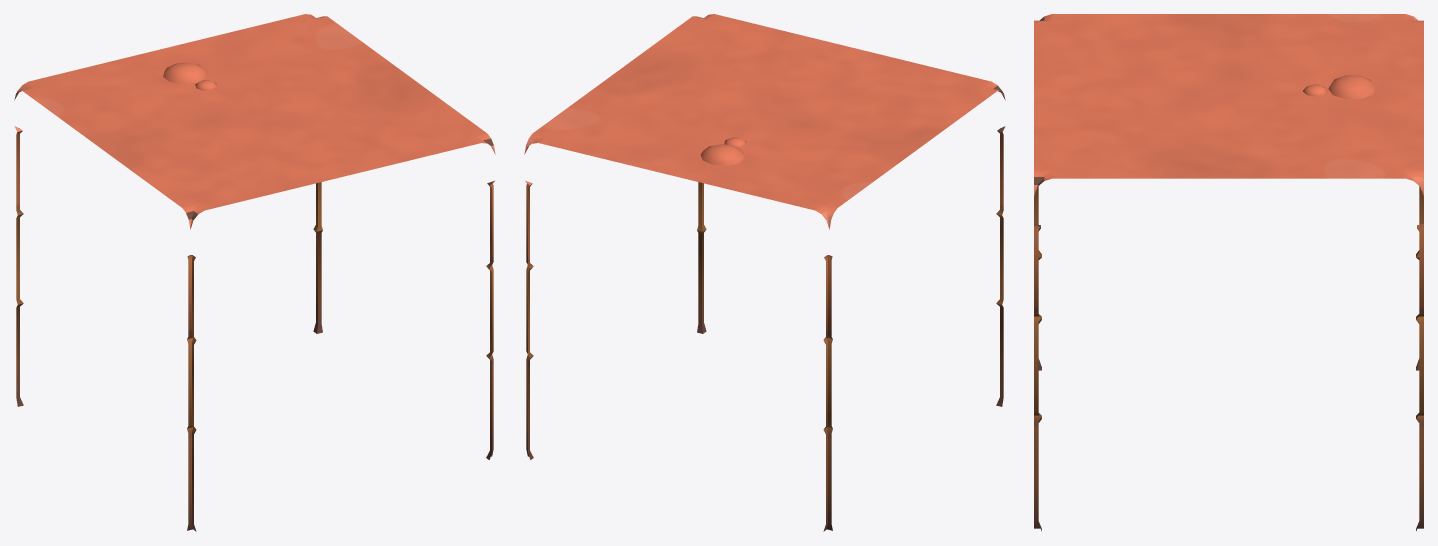
Rendered from wall_cross.glb.
3 views of the same model, side by side, from view 1: azimuth 30°, elevation 25°; view 2: azimuth 150°, elevation 25°; view 3: azimuth 270°, elevation 25° (orthographic). The views are drawn at different scales.
Visible parts, largest first — view 1: wall_cross; view 2: wall_cross; view 3: wall_cross.
Boxes of the visible parts, bbox=[...] form: wall_cross: bbox=[14, 14, 495, 531]; wall_cross: bbox=[524, 14, 1005, 531]; wall_cross: bbox=[1034, 14, 1423, 531].
Bounding box in the file's own units: 1 × 1.03 × 1.
Materials: 2 (2 with a texture image).
